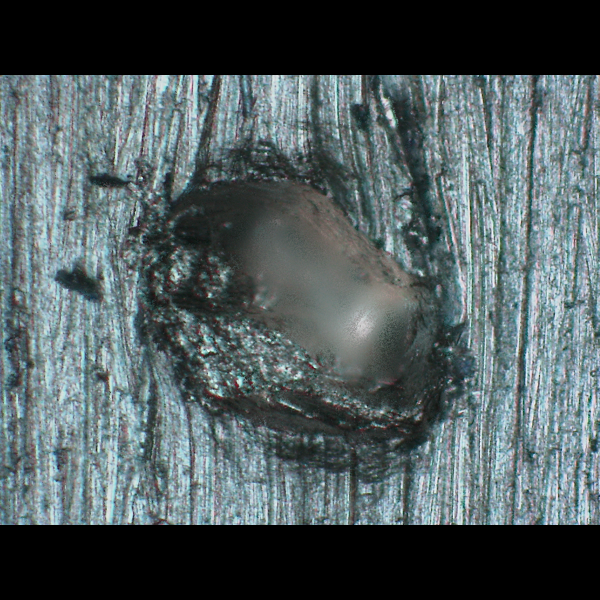d: (118, 140, 485, 493)
